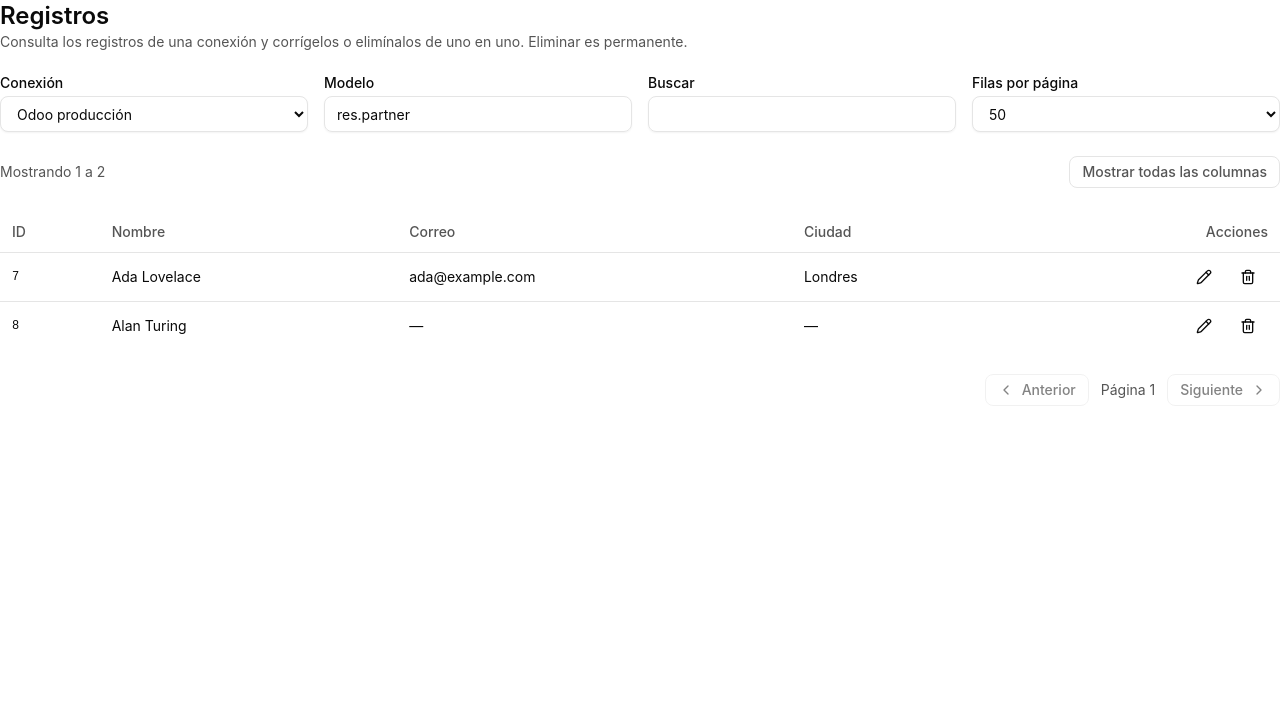
Test: RecordsPage edit › reports a record that no longer exists
Click the button named "Editar Ada Lovelace". click: (1204, 276)
box: [1184,260,1224,292]
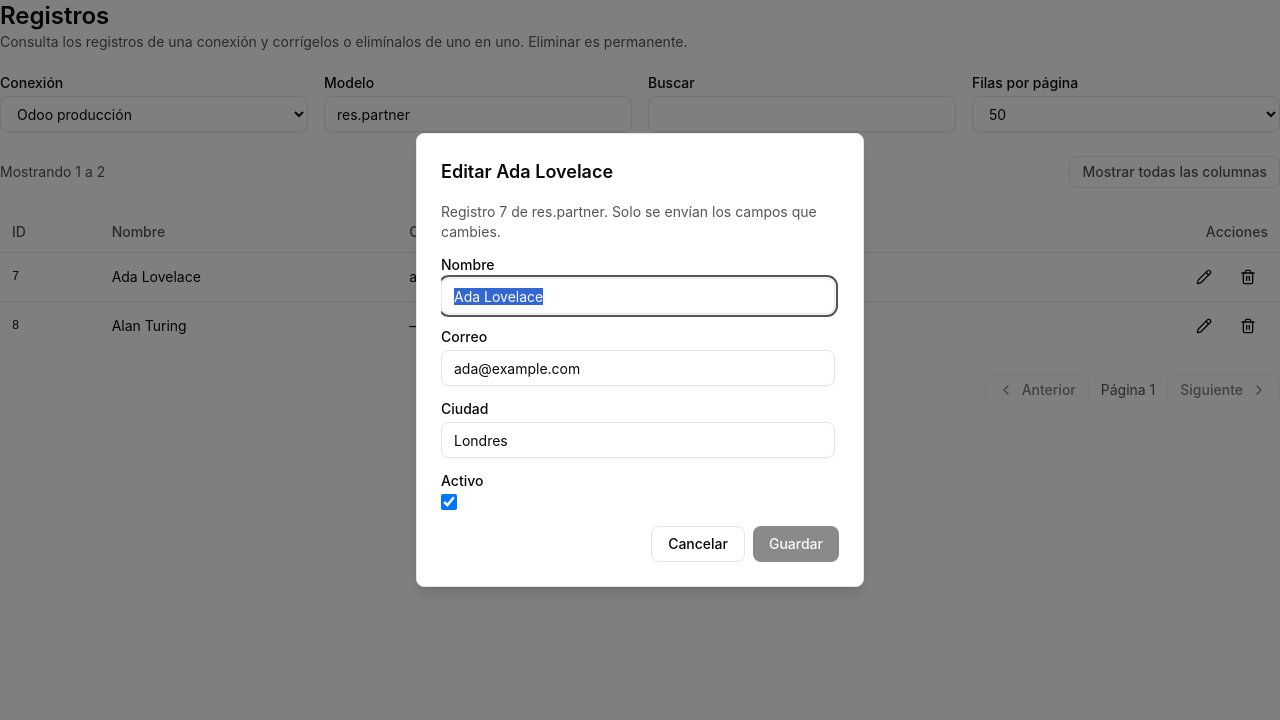
Type "x" into the field labelled "Ciudad". click: (638, 440)
box: [441,422,835,458]
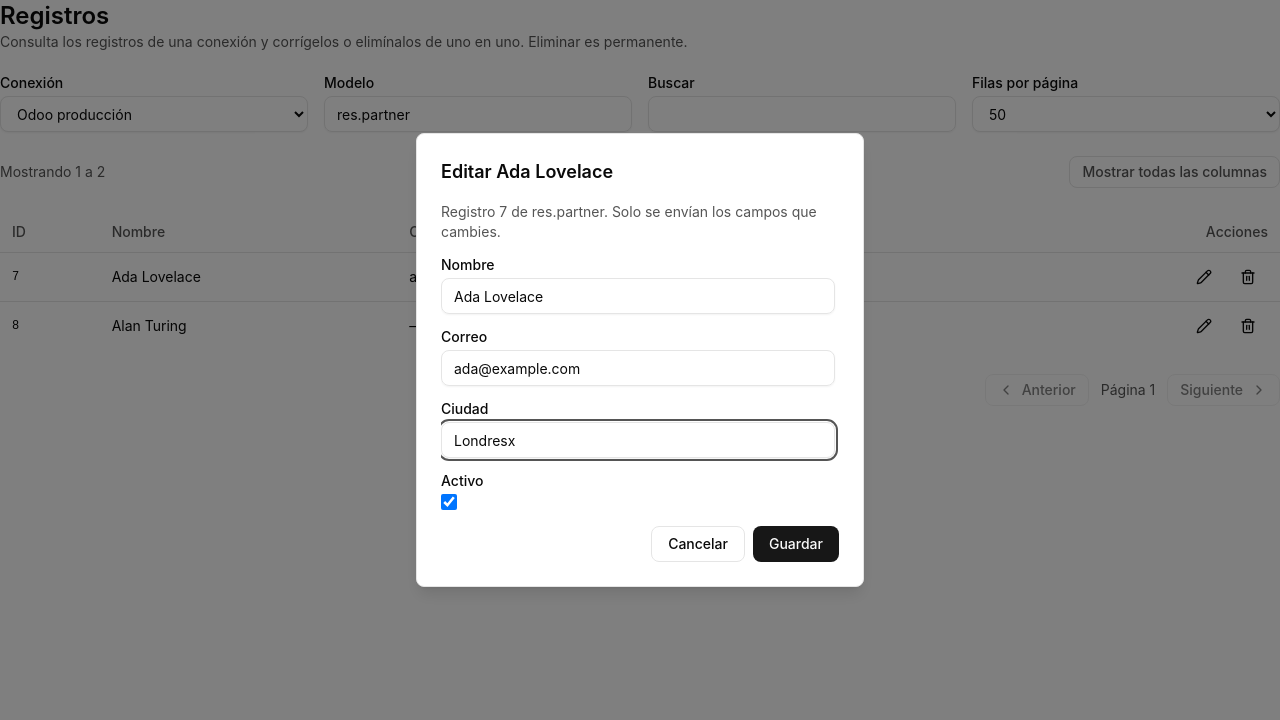
Click the button "Guardar". click: (796, 544)
box: [753,526,839,562]
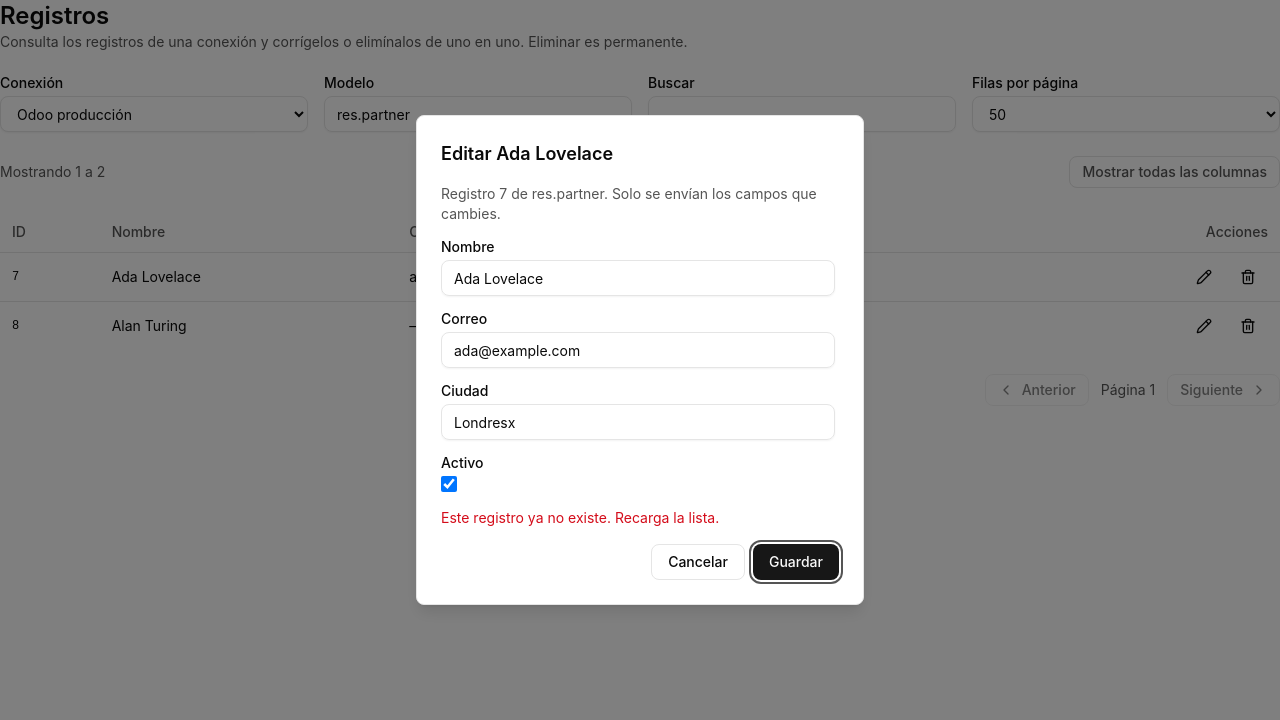
expect the message shows "ya no existe": met, box [441,509,719,526]
